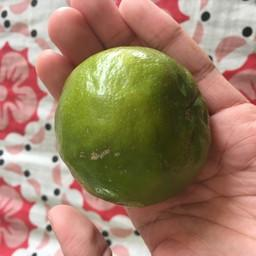Good_orange: (53, 42, 216, 204)
